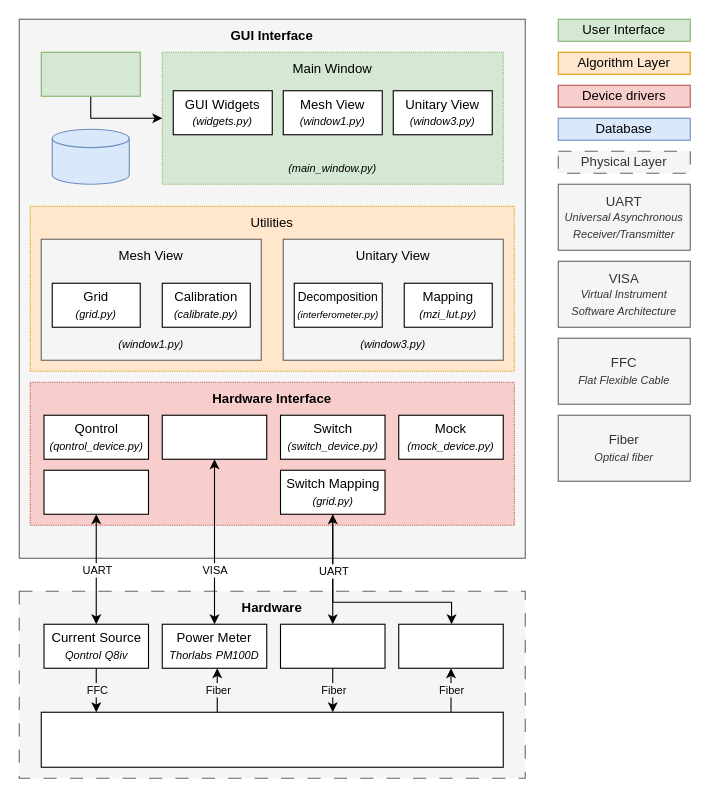
The diagram is 710 pixels wide and 798 high, and some of its shapes have lost their labels. The shapes that lost their labels are listed below. From the top down, each one's box as (x1, y1, x2, y2) in pixels, then its label:
(40, 51, 140, 96): Entry point (main.py)
(51, 128, 129, 184): AppData (appdata.py)
(161, 414, 267, 459): Thorlabs (thorlabs_device.py)
(43, 469, 148, 514): Chip Mapping (mapping_utils.py)
(279, 623, 385, 668): Optical Switch 1 12 mode
(398, 623, 503, 668): Optical Switch 2 12 mode
(40, 711, 503, 767): Photonic Integrated Circuit
